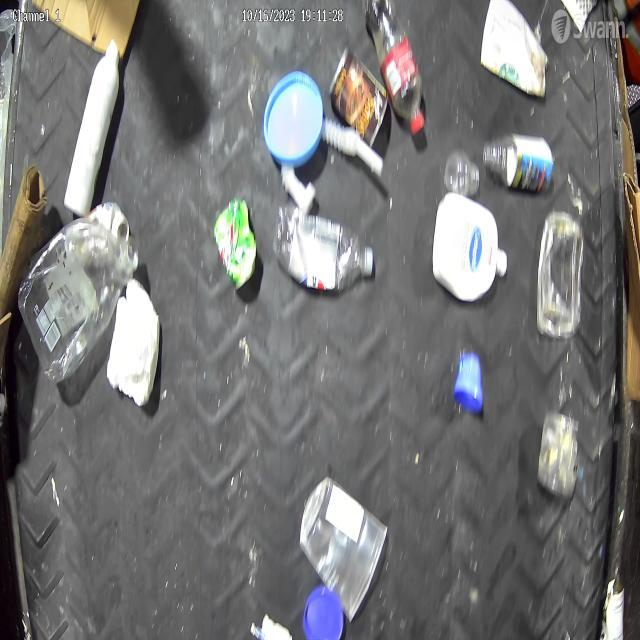can: (328, 47, 389, 151), (212, 196, 258, 292), (600, 574, 628, 640), (92, 199, 130, 242)
non_white_jug: (18, 218, 140, 386)
plastic_bottle: (363, 0, 428, 139), (272, 205, 375, 292), (481, 130, 555, 192)
